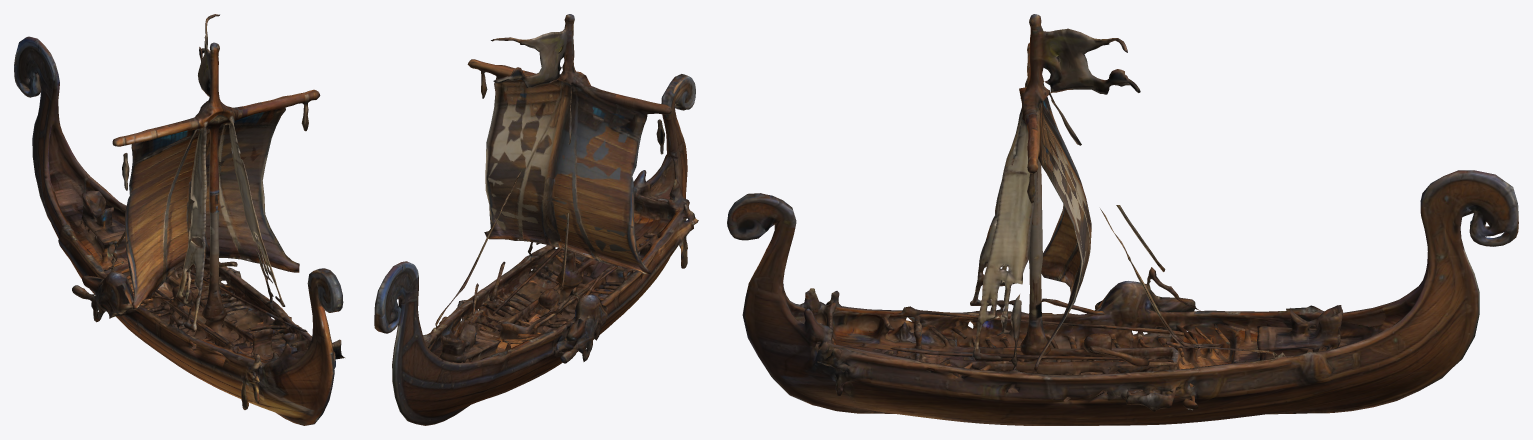
File: viking-boat.glb
The picture shows the model from 3 angles, left to right: view 1: azimuth 30°, elevation 25°; view 2: azimuth 150°, elevation 25°; view 3: azimuth 270°, elevation 25°; orthographic projection. The views are drawn at different scales.
Size of the model in its own units: 0.7408 by 1.11 by 2.
Materials: 1 (1 with a texture image).
